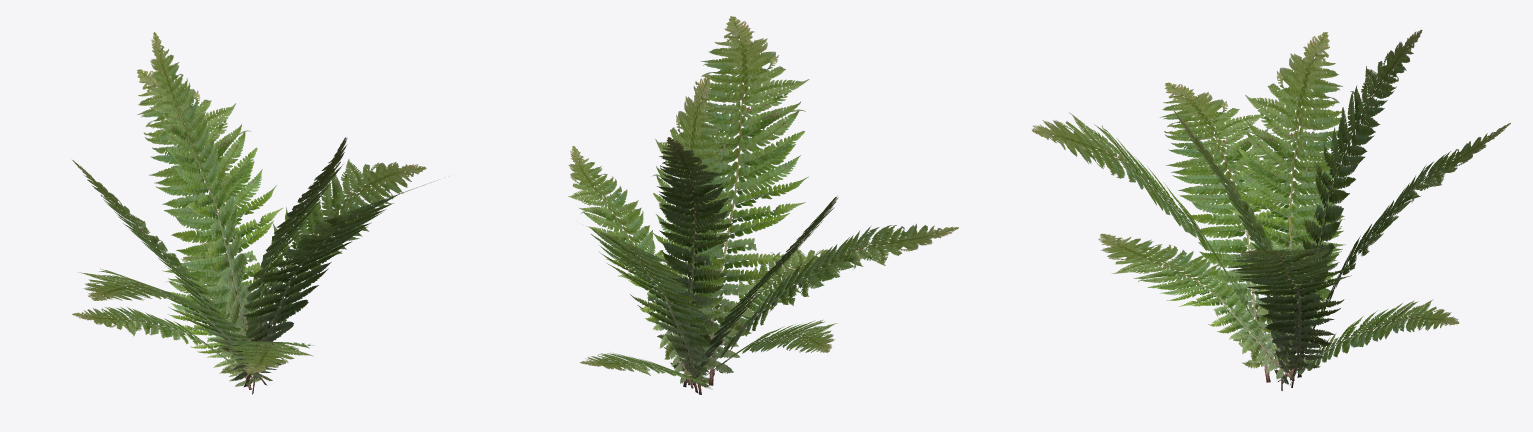
The model's file is Fern4.fbx.
The picture shows the model from 3 angles, left to right: view 1: azimuth 30°, elevation 25°; view 2: azimuth 150°, elevation 25°; view 3: azimuth 270°, elevation 25°; orthographic projection. The views are drawn at different scales.
Parts seen in each view (by area): view 1: Fern4; view 2: Fern4; view 3: Fern4.
Part boxes in pixels (box(x1,y1,x2,y2)): Fern4: box(72, 32, 437, 394); Fern4: box(568, 16, 958, 394); Fern4: box(1031, 30, 1510, 390).
Size of the model in its own units: 243 by 195 by 260.
